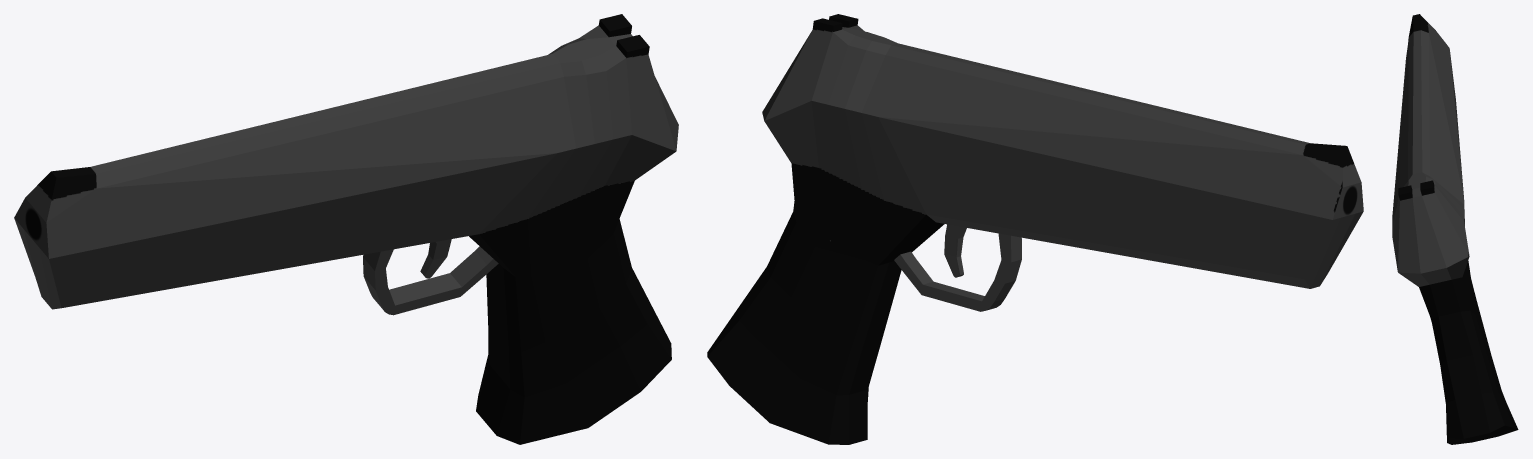
Rendered from gun-ver-6.glb.
The picture shows the model from 3 angles, left to right: view 1: azimuth 30°, elevation 25°; view 2: azimuth 150°, elevation 25°; view 3: azimuth 270°, elevation 25°; orthographic projection. The views are drawn at different scales.
Visible parts, largest first — view 1: Cube, Cube.002, Cube.001; view 2: Cube, Cube.002, Cube.001; view 3: Cube.
Part boxes in pixels (<box>): Cube: <box>14,14,678,444</box>; Cube.002: <box>363,246,498,315</box>; Cube.001: <box>420,239,451,278</box>; Cube: <box>707,14,1363,444</box>; Cube.002: <box>894,233,1021,311</box>; Cube.001: <box>944,224,966,277</box>; Cube: <box>1392,14,1518,444</box>.
Size of the model in its own units: 17.95 by 10.97 by 4.67.
Materials: 2 (2 with a texture image).
